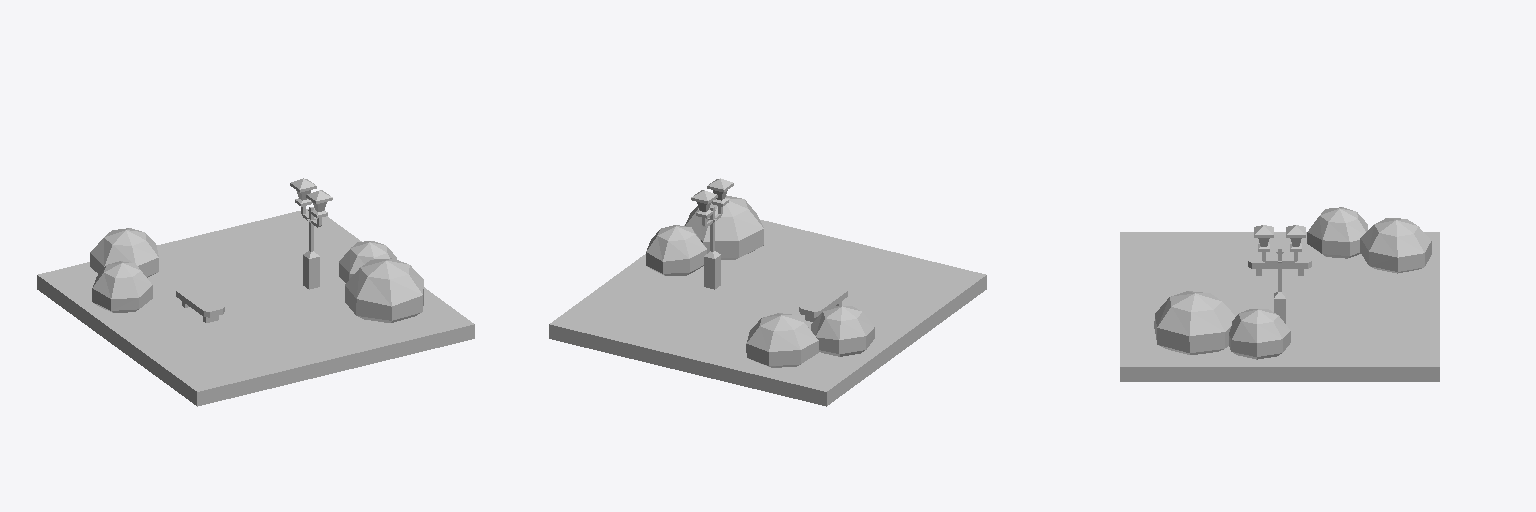
The model's file is park_road_straight_decorated_B.obj.
The picture shows the model from 3 angles: view 1: azimuth 30°, elevation 25°; view 2: azimuth 150°, elevation 25°; view 3: azimuth 270°, elevation 25°; orthographic projection.
Visible parts, largest first — view 1: park_road_straight_decorated_B_Cube.14225; view 2: park_road_straight_decorated_B_Cube.14225; view 3: park_road_straight_decorated_B_Cube.14225.
Part boxes in pixels (x1,y1,x2,y2): park_road_straight_decorated_B_Cube.14225: (37,178,474,406); park_road_straight_decorated_B_Cube.14225: (549,178,986,406); park_road_straight_decorated_B_Cube.14225: (1120,207,1439,381).
Bounding box in the file's own units: 2 × 0.8 × 2.